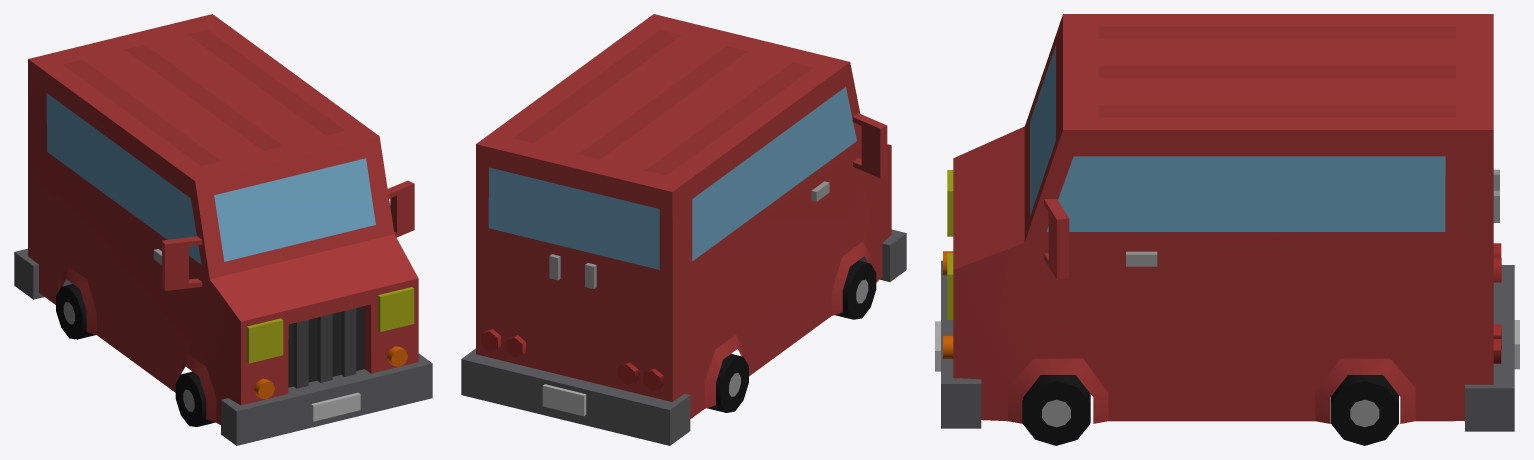
The model's file is Car_11_red.fbx.
3 renders of one model, left to right at view 1: azimuth 30°, elevation 25°; view 2: azimuth 150°, elevation 25°; view 3: azimuth 270°, elevation 25°, orthographic. The views are drawn at different scales.
Parts seen in each view (by area): view 1: Car_11_red; view 2: Car_11_red; view 3: Car_11_red.
Boxes of the visible parts, x1,y1,x2,y2 form: Car_11_red: [14, 14, 432, 445]; Car_11_red: [461, 14, 906, 445]; Car_11_red: [935, 14, 1519, 445].
Size of the model in its own units: 65.22 by 60.13 by 103.
